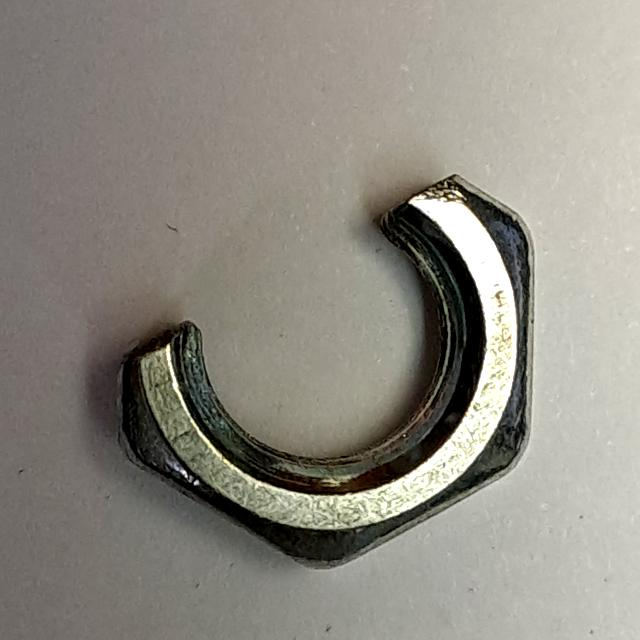Fracture: (105, 158, 549, 584)
